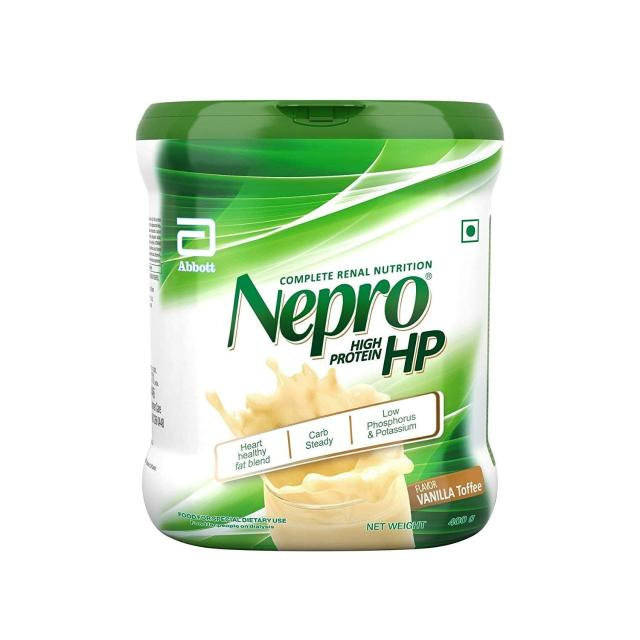food-supliment: (138, 137, 487, 535), (343, 531, 344, 536)
